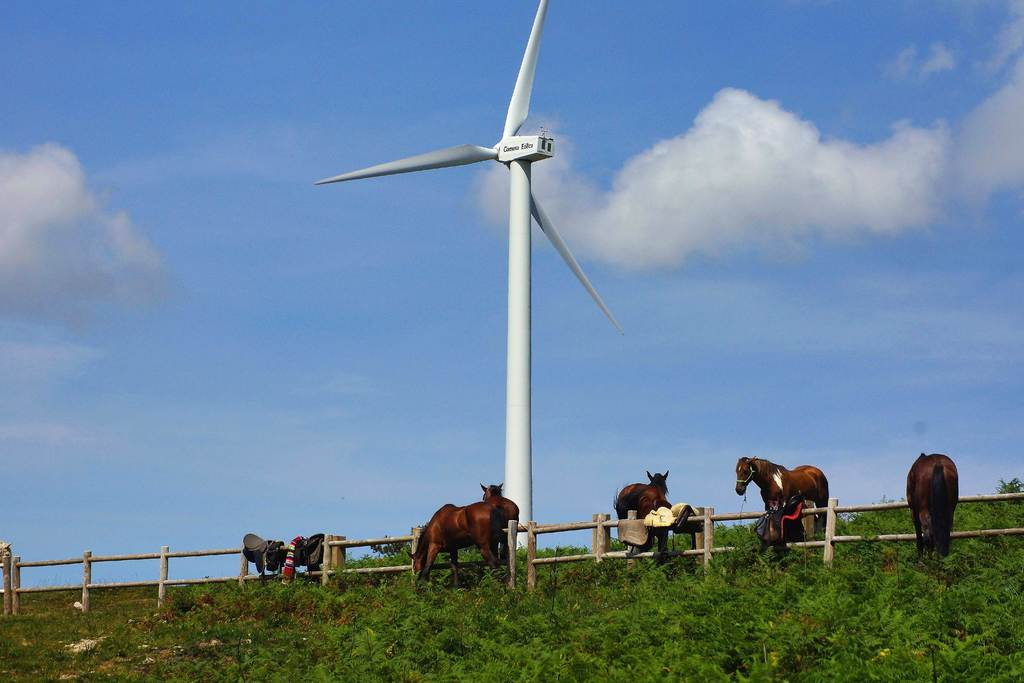horse: (904, 453, 960, 552)
